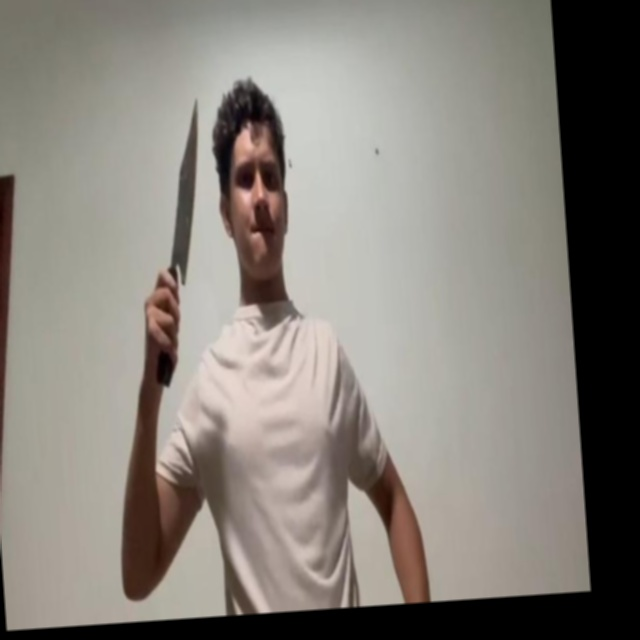Sharp-Object: (157, 97, 211, 282)
